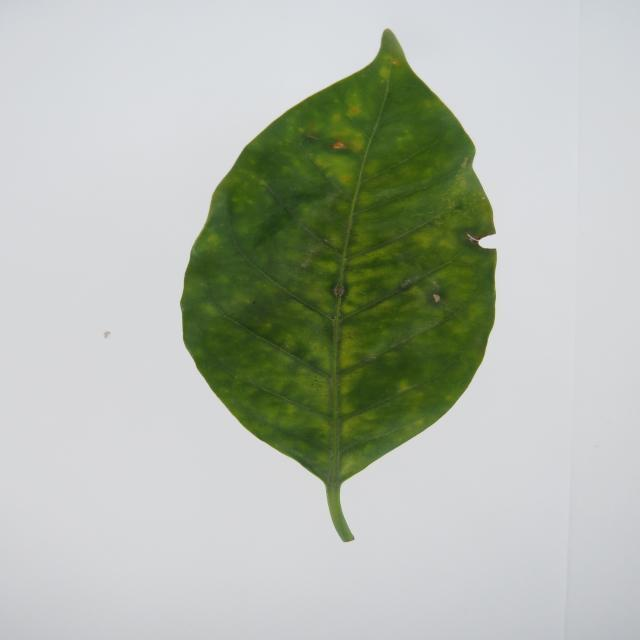DeficienciaNutricional-Magnesio: (182, 30, 495, 541)
